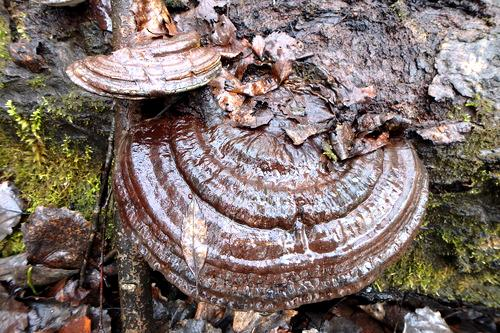Ganoderma - Fruit Body: (112, 111, 429, 316), (68, 29, 224, 97)
